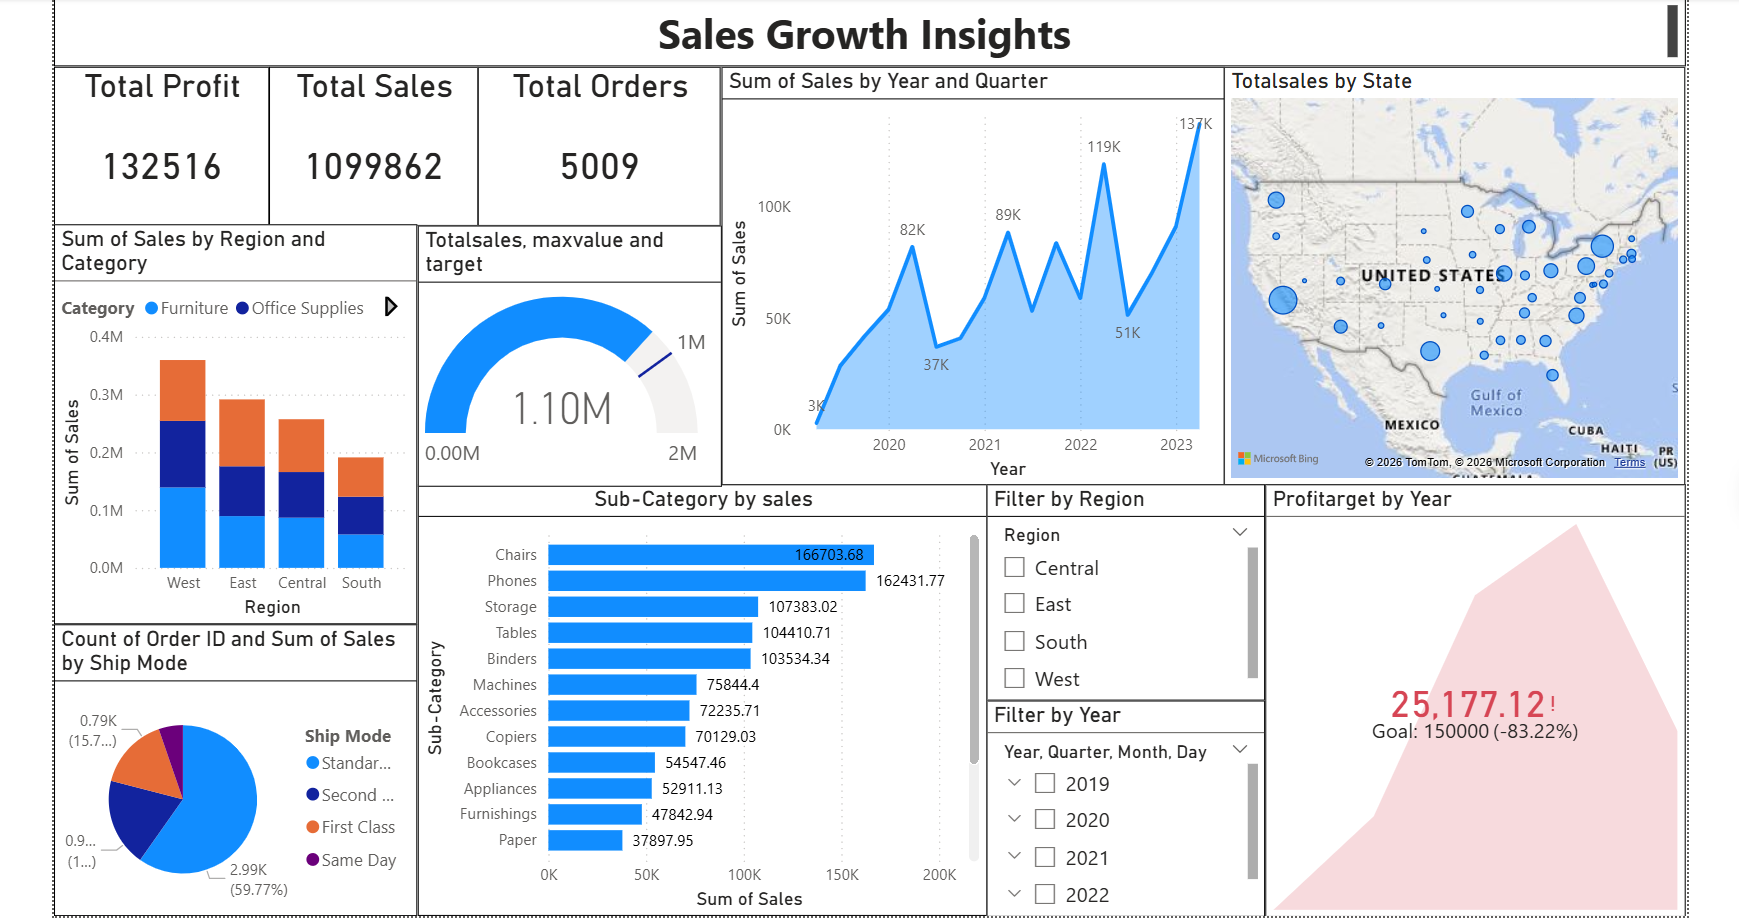

This screenshot's page, from the dashboard's own definition file:
{"tool":"powerbi","page":{"name":"Page 1","canvas":[1280,720],"ordinal":14},"visuals":[{"type":"card","title":"Total Profit","fields":{"Values":["Sales_Table.totalprofit"]},"box":[0,53.5,168.6,124.4],"z":0},{"type":"card","title":"Total Sales","fields":{"Values":["Sales_Table.totalsales"]},"box":[168.6,53.5,164,124.4],"z":1000},{"type":"card","title":"Total Orders","fields":{"Values":["Sales_Table.totalorder"]},"box":[332.6,53.5,190.7,124.4],"z":2000},{"type":"columnChart","fields":{"Category":["Customer_Table.Region"],"Y":["Sum(Sales_Table.Sales)"],"Series":["Product_Table.Category"]},"box":[0,177.1,284.9,313.7],"z":3000},{"type":"map","fields":{"Category":["Customer_Table.State"],"Size":["Sales_Table.totalsales"]},"box":[917.4,53.5,361.6,327.9],"z":4000},{"type":"pieChart","fields":{"Category":["Sales_Table.Ship Mode"],"Y":["CountNonNull(Sales_Table.Order ID)"]},"box":[0,490.7,284.9,229.1],"z":5000},{"type":"areaChart","fields":{"Category":["Sales_Table.Order Date.Variation.Date Hierarchy.Year","Sales_Table.Order Date.Variation.Date Hierarchy.Quarter","Sales_Table.Order Date.Variation.Date Hierarchy.Month","Sales_Table.Order Date.Variation.Date Hierarchy.Day"],"Y":["Sum(Sales_Table.Sales)"]},"box":[523.3,53.5,394.2,327.9],"z":6000},{"type":"textbox","box":[0,0,1279.3,53.3],"z":7000},{"type":"barChart","title":"Sub-Category by sales","fields":{"Category":["Product_Table.Sub-Category"],"Y":["Sum(Sales_Table.Sales)"]},"box":[284.9,381.4,446.5,338.4],"z":8000},{"type":"gauge","fields":{"Y":["Sales_Table.totalsales"],"MaxValue":["Sales_Table.maxvalue"],"TargetValue":["Sales_Table.target"]},"box":[284.9,177.9,238.4,204.7],"z":9000},{"type":"kpi","title":"Profitarget by Year","fields":{"Goal":["Sales_Table.profitarget"],"TrendLine":["Sales_Table.Order Date.Variation.Date Hierarchy.Year"],"Indicator":["Sales_Table.totalprofit"]},"box":[949.6,380.9,329.7,339.3],"z":10000},{"type":"slicer","title":"Filter by Region","fields":{"Values":["Customer_Table.Region"]},"box":[731.4,381.4,218.6,169.8],"z":11000},{"type":"slicer","title":"Filter by Year","fields":{"Values":["Sales_Table.Order Date.Variation.Date Hierarchy.Year","Sales_Table.Order Date.Variation.Date Hierarchy.Quarter","Sales_Table.Order Date.Variation.Date Hierarchy.Month","Sales_Table.Order Date.Variation.Date Hierarchy.Day"]},"box":[730.9,550.6,218.7,169.7],"z":12000}]}

Visuals, with their boxes on the page's 1280x720 design canvas (x1, y1, x2, y2). These are canvas units, not pixel positions in the 1739x922 screenshot, which may show the page scaled, cropped or inside an application window:
"Total Profit" card: (x1=0, y1=54, x2=169, y2=178)
"Total Sales" card: (x1=169, y1=54, x2=333, y2=178)
"Total Orders" card: (x1=333, y1=54, x2=523, y2=178)
columnChart - Customer_Table.Region x Sum(Sales_Table.Sales): (x1=0, y1=177, x2=285, y2=491)
map - Customer_Table.State x Sales_Table.totalsales: (x1=917, y1=54, x2=1279, y2=381)
pieChart - Sales_Table.Ship Mode x CountNonNull(Sales_Table.Order ID): (x1=0, y1=491, x2=285, y2=720)
areaChart - Sales_Table.Order Date.Variation.Date Hierarchy.Year x Sales_Table.Order Date.Variation.Date Hierarchy.Quarter: (x1=523, y1=54, x2=918, y2=381)
textbox: (x1=0, y1=0, x2=1279, y2=53)
"Sub-Category by sales" barChart: (x1=285, y1=381, x2=731, y2=720)
gauge - Sales_Table.totalsales x Sales_Table.maxvalue: (x1=285, y1=178, x2=523, y2=383)
"Profitarget by Year" kpi: (x1=950, y1=381, x2=1279, y2=720)
"Filter by Region" slicer: (x1=731, y1=381, x2=950, y2=551)
"Filter by Year" slicer: (x1=731, y1=551, x2=950, y2=720)
